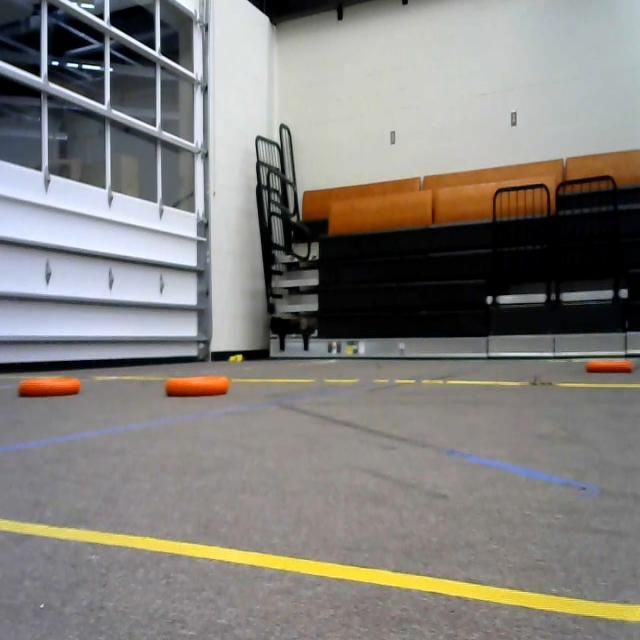note: (160, 367, 233, 408), (16, 370, 85, 402), (584, 353, 636, 382)
